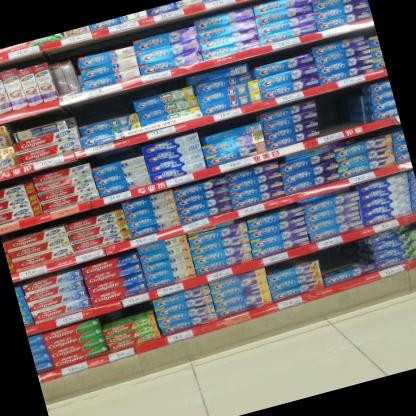empty_space: (320, 92, 362, 136)
